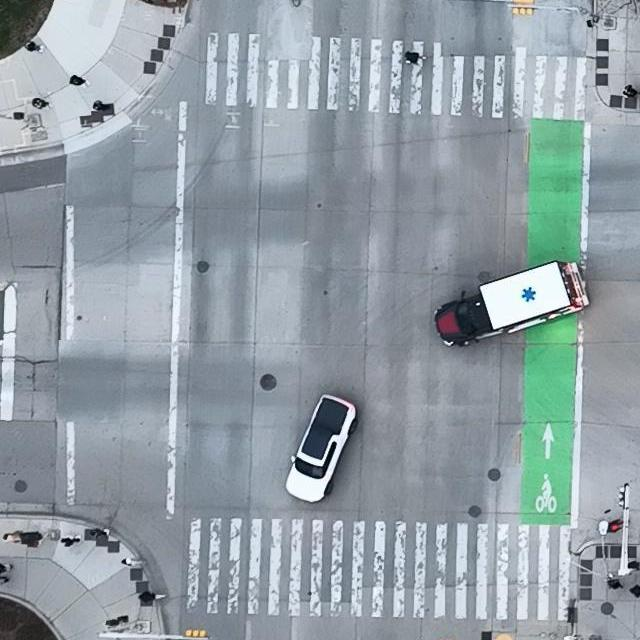car: (435, 260, 592, 347), (285, 393, 358, 502)
